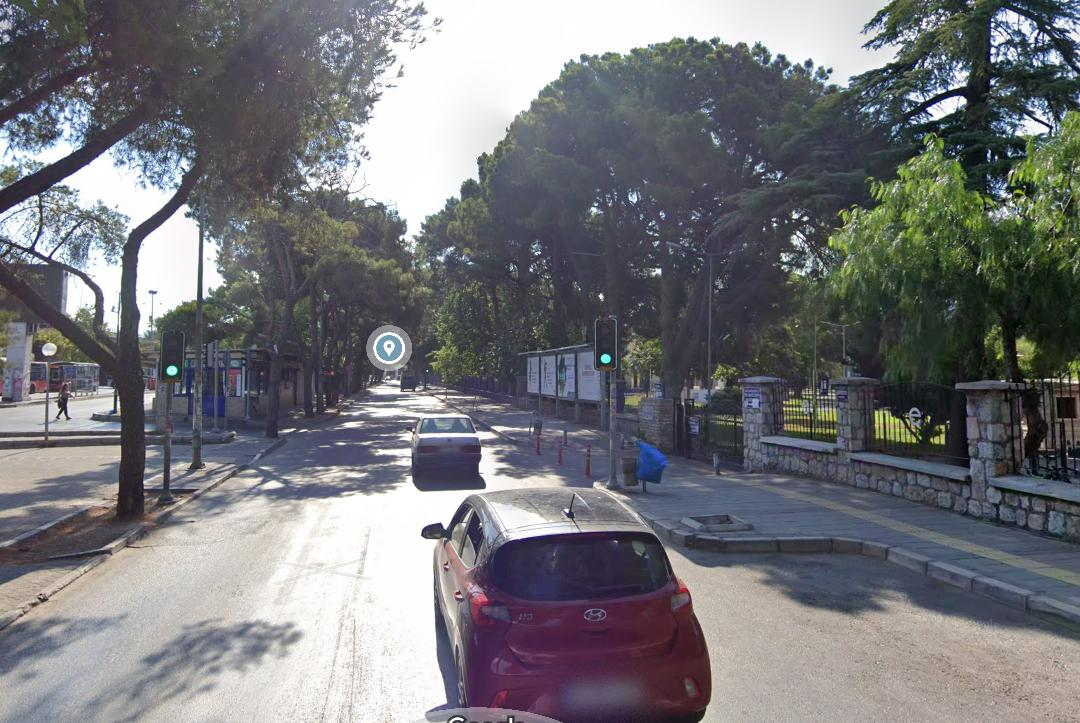greenlight: (160, 330, 181, 380), (595, 319, 615, 366)
